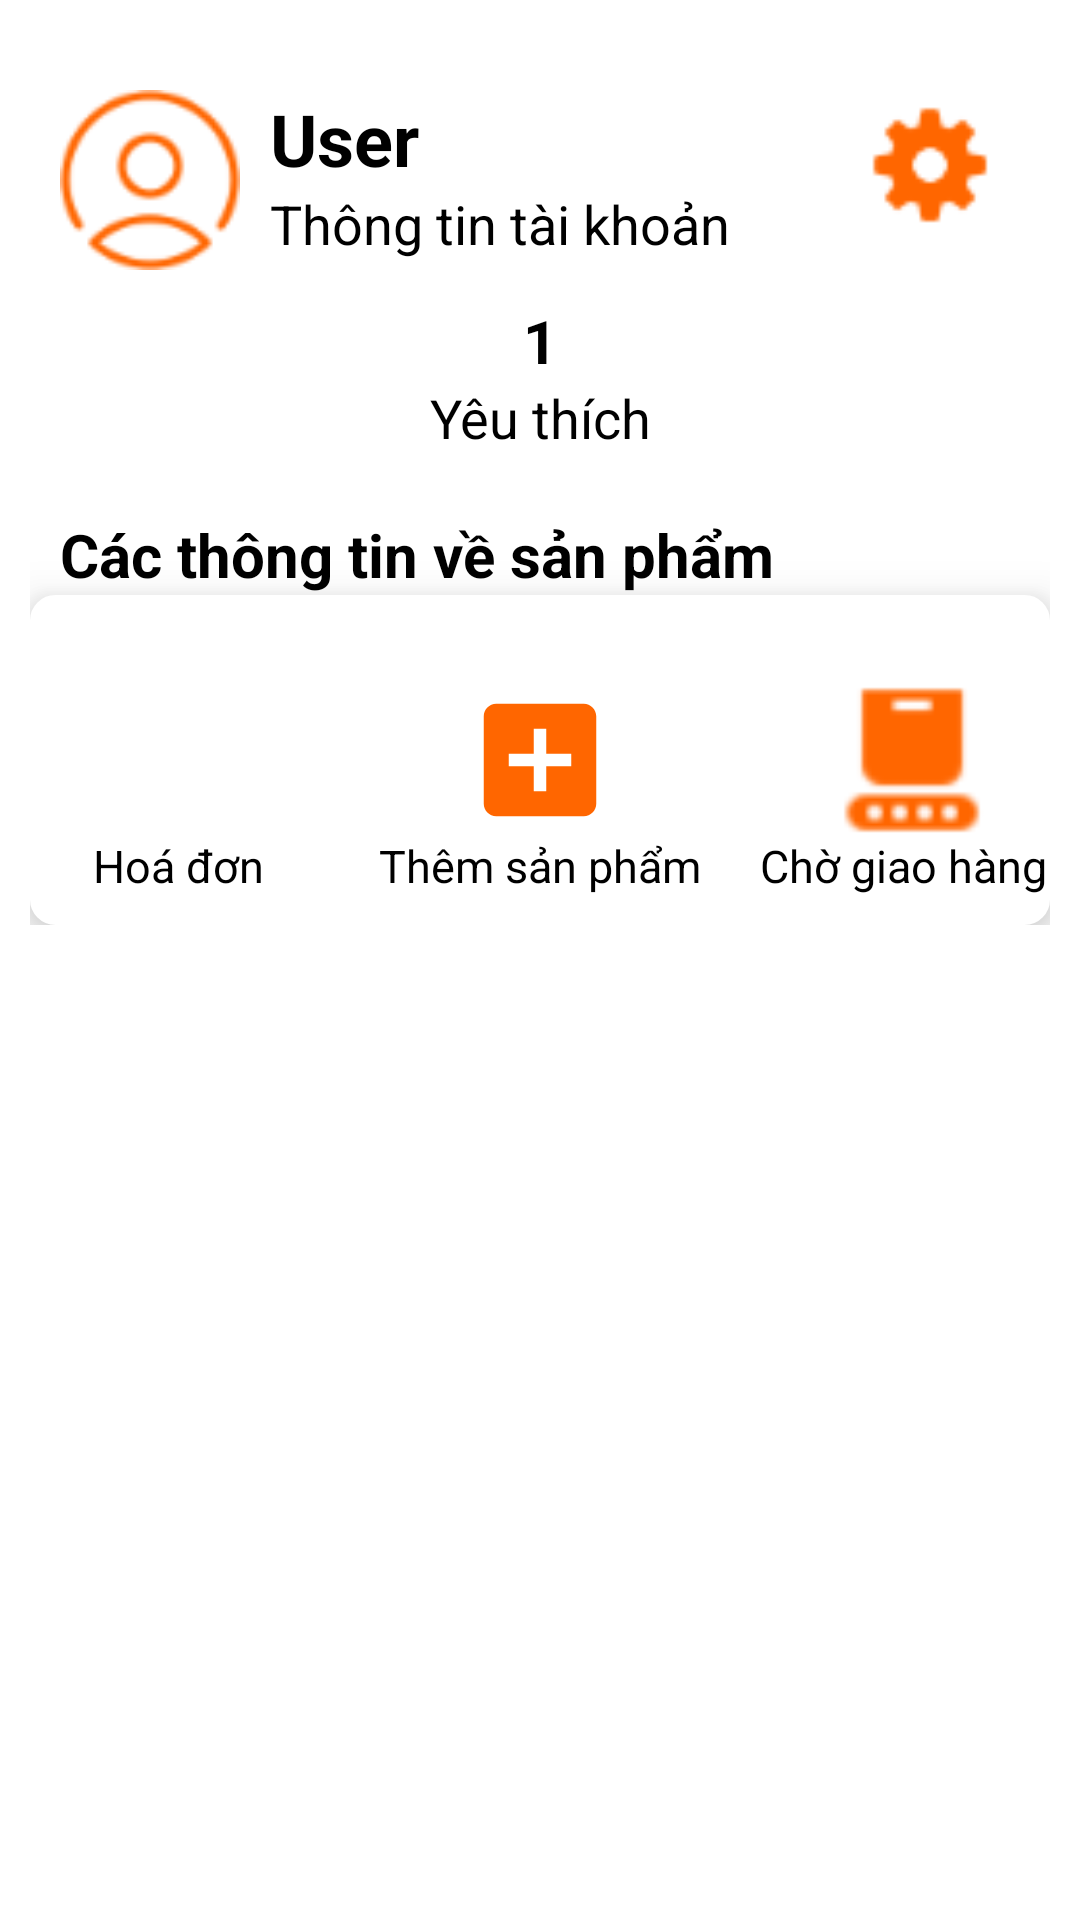

Icons on this 1080 x 1920 Android screen, each with the point to tap as point (x, y):
add box: point (540, 760)
setting: point (930, 165)
